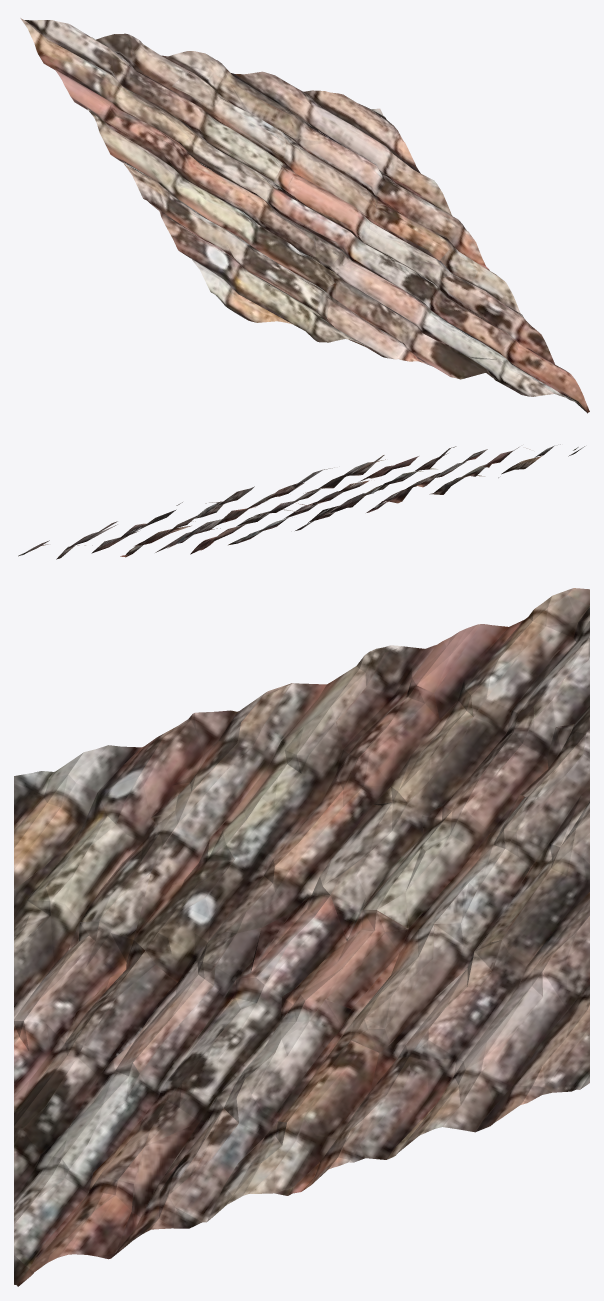
3 views of the same model, one above another, from view 1: azimuth 30°, elevation 25°; view 2: azimuth 150°, elevation 25°; view 3: azimuth 270°, elevation 25° (orthographic). The views are drawn at different scales.
Bounding box in the file's own units: 1.67 × 1.46 × 1.67.
3 materials, 3 textured.
